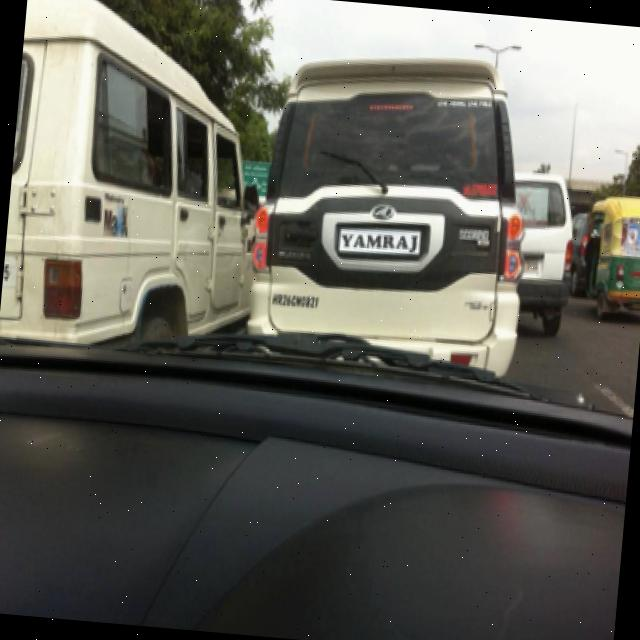Autre: (327, 225, 426, 253)
